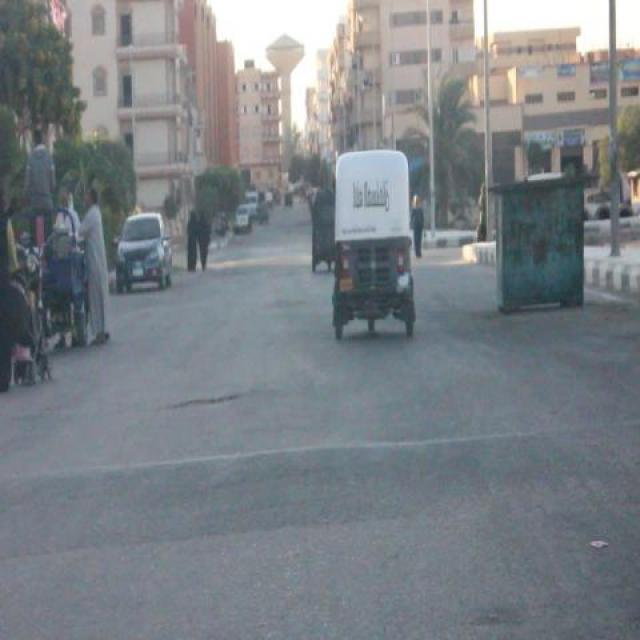Pothole: (165, 390, 248, 409)
Unmarked Bump: (0, 419, 640, 566)
